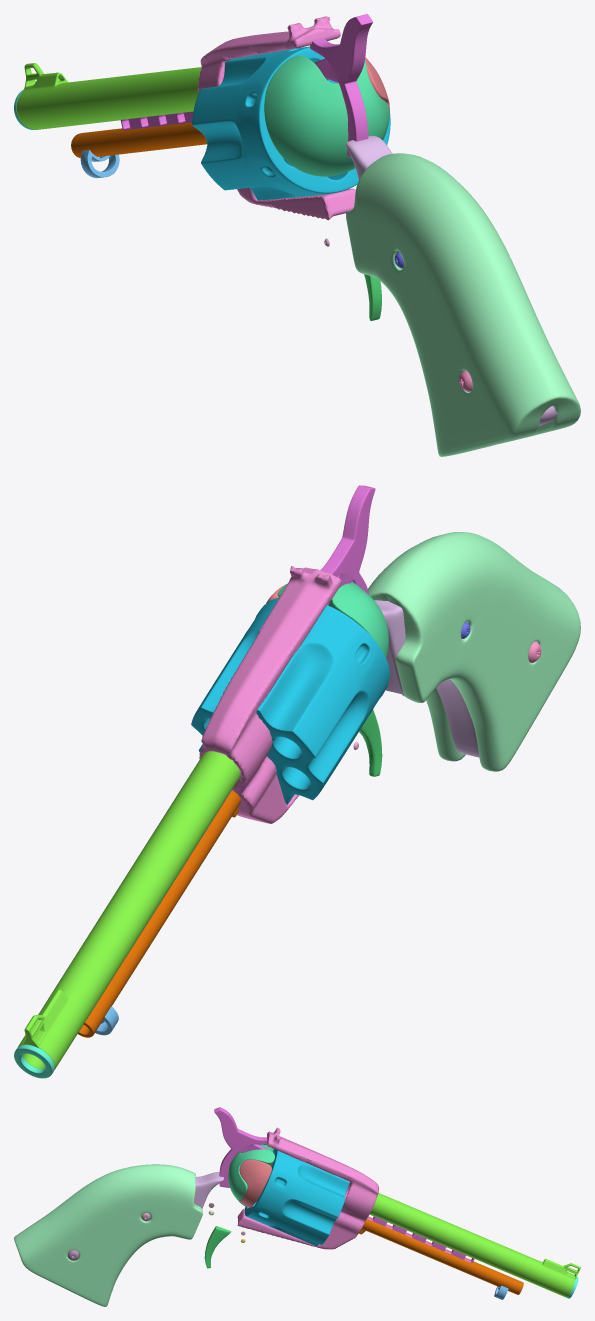
3 views of the same model, one above another, from view 1: azimuth 30°, elevation 25°; view 2: azimuth 150°, elevation 25°; view 3: azimuth 270°, elevation 25° (orthographic). The views are drawn at different scales.
Visible parts, largest first — view 1: Object_2.129, Object_2.128, split_parent_15, Object_2.132, Object_2.134, Object_3.019, Object_2.116, Object_2.113, Object_2.115, Object_2, Object_2.119; view 2: Object_2.129, Object_2.128, Object_2.132, Object_2.134, Object_2.116, Object_2.113, Object_3.019, split_parent_15, Object_2.119, Object_2.114; view 3: Object_2.129, Object_2.128, Object_2.132, Object_2.134, Object_2.116, Object_3.019, split_parent_15, Object_2.121, Object_2.115, Object_2.113, Object_2.119.
Boxes of the visible parts, x1=… form: Object_2.129: x1=346, y1=153, x2=580, y2=456; Object_2.128: x1=191, y1=46, x2=390, y2=200; split_parent_15: x1=264, y1=55, x2=389, y2=176; Object_2.132: x1=16, y1=63, x2=201, y2=129; Object_2.134: x1=197, y1=16, x2=355, y2=220; Object_3.019: x1=310, y1=14, x2=372, y2=157; Object_2.116: x1=71, y1=121, x2=206, y2=158; Object_2.113: x1=346, y1=135, x2=558, y2=426; Object_2.115: x1=120, y1=111, x2=193, y2=130; Object_2: x1=80, y1=150, x2=119, y2=178; Object_2.119: x1=364, y1=274, x2=381, y2=320; Object_2.129: x1=368, y1=532, x2=580, y2=771; Object_2.128: x1=191, y1=597, x2=389, y2=804; Object_2.132: x1=18, y1=751, x2=240, y2=1069; Object_2.134: x1=199, y1=566, x2=341, y2=823; Object_2.116: x1=78, y1=790, x2=240, y2=1037; Object_2.113: x1=374, y1=600, x2=479, y2=757; Object_3.019: x1=320, y1=485, x2=375, y2=604; split_parent_15: x1=277, y1=582, x2=388, y2=658; Object_2.119: x1=359, y1=709, x2=382, y2=776; Object_2.114: x1=14, y1=1044, x2=54, y2=1078; Object_2.129: x1=14, y1=1164, x2=202, y2=1306; Object_2.128: x1=244, y1=1149, x2=349, y2=1246; Object_2.132: x1=370, y1=1193, x2=580, y2=1297; Object_2.134: x1=237, y1=1127, x2=379, y2=1249; Object_2.116: x1=359, y1=1217, x2=523, y2=1294; Object_3.019: x1=214, y1=1107, x2=267, y2=1187; split_parent_15: x1=228, y1=1144, x2=274, y2=1207; Object_2.121: x1=239, y1=1159, x2=271, y2=1207; Object_2.115: x1=367, y1=1214, x2=474, y2=1263; Object_2.113: x1=194, y1=1172, x2=223, y2=1208; Object_2.119: x1=204, y1=1226, x2=231, y2=1268.
Bounding box in the file's own units: 0.1397 × 0.3716 × 1.
